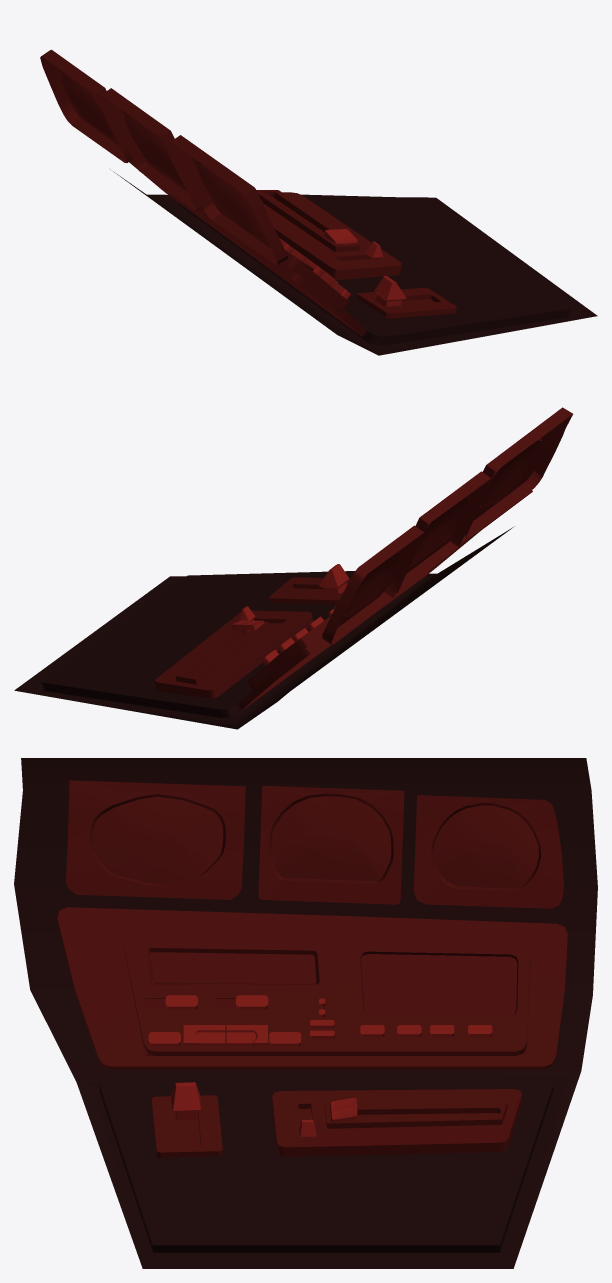
Rendered from MenuLP (1).fbx.
3 renders of one model, top to bottom at view 1: azimuth 30°, elevation 25°; view 2: azimuth 150°, elevation 25°; view 3: azimuth 270°, elevation 25°, orthographic. The views are drawn at different scales.
Parts seen in each view (by area): view 1: pCube1, pCube30, polySurface4, polySurface6, polySurface1, polySurface8, pCube34, polySurface5, polySurface7, polySurface9, pCube33; view 2: pCube1, pCube30, polySurface8, polySurface4, polySurface1, polySurface6, polySurface5, pCube34, polySurface7, polySurface9, pCube33; view 3: pCube1, polySurface1, pCube30, polySurface4, polySurface3, polySurface5, polySurface8, polySurface7, polySurface6, polySurface9, polySurface2, pCube34 (+3 smaller).
Boxes of the visible parts, bbox=[...] form: pCube1: bbox=[110, 169, 597, 355]; pCube30: bbox=[256, 190, 401, 279]; polySurface4: bbox=[171, 135, 287, 265]; polySurface6: bbox=[102, 88, 202, 211]; polySurface1: bbox=[129, 160, 367, 336]; polySurface8: bbox=[40, 49, 132, 162]; pCube34: bbox=[357, 287, 456, 318]; polySurface5: bbox=[197, 164, 262, 235]; polySurface7: bbox=[125, 113, 184, 185]; polySurface9: bbox=[62, 72, 114, 137]; pCube33: bbox=[374, 275, 406, 306]; pCube1: bbox=[14, 526, 514, 729]; pCube30: bbox=[155, 610, 313, 698]; polySurface8: bbox=[322, 525, 424, 644]; polySurface4: bbox=[464, 407, 572, 537]; polySurface1: bbox=[237, 490, 532, 710]; polySurface6: bbox=[396, 471, 491, 593]; polySurface5: bbox=[481, 440, 543, 508]; pCube34: bbox=[269, 577, 350, 604]; polySurface7: bbox=[408, 496, 468, 568]; polySurface9: bbox=[346, 552, 399, 616]; pCube33: bbox=[319, 564, 349, 593]; pCube1: bbox=[14, 758, 597, 1268]; polySurface1: bbox=[57, 907, 567, 1069]; pCube30: bbox=[272, 1089, 521, 1156]; polySurface4: bbox=[66, 780, 245, 899]; polySurface3: bbox=[361, 954, 517, 1015]; polySurface5: bbox=[92, 796, 223, 883]; polySurface8: bbox=[413, 795, 564, 908]; polySurface7: bbox=[271, 796, 391, 881]; polySurface6: bbox=[258, 785, 404, 904]; polySurface9: bbox=[433, 805, 538, 888]; polySurface2: bbox=[150, 952, 316, 983]; pCube34: bbox=[151, 1095, 222, 1157].
Size of the model in its own units: 39.31 by 24.57 by 44.45.
